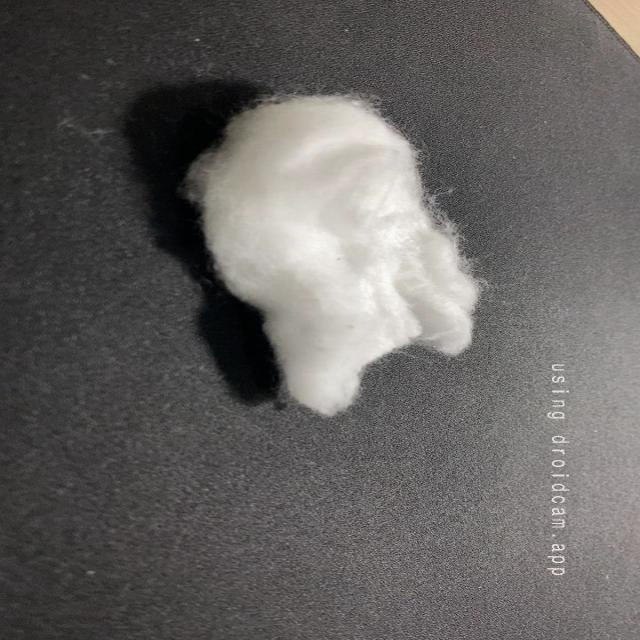cotton: (184, 85, 501, 417)
